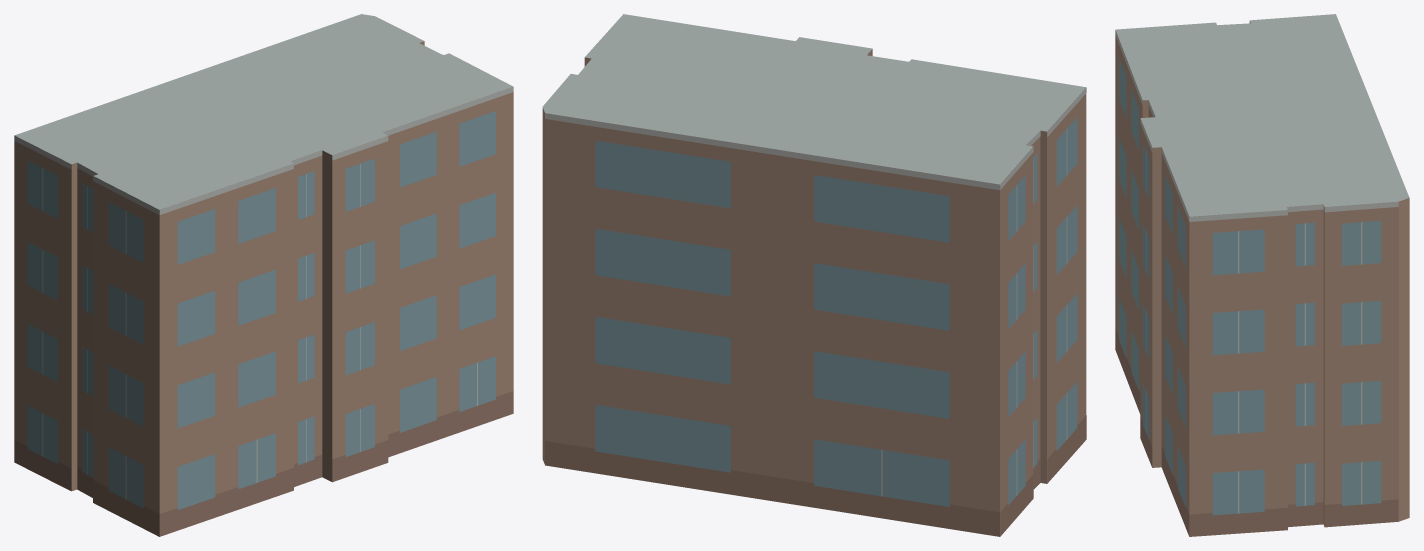
File: survey-upis-32976322.glb
The picture shows the model from 3 angles, left to right: view 1: azimuth 30°, elevation 25°; view 2: azimuth 150°, elevation 25°; view 3: azimuth 270°, elevation 25°; orthographic projection. The views are drawn at different scales.
Visible parts, largest first — view 1: survey-upis-32976322.tmp; view 2: survey-upis-32976322.tmp; view 3: survey-upis-32976322.tmp.
Part boxes in pixels (left/top/right/bottom): survey-upis-32976322.tmp: left=14, top=14, right=513, bottom=536; survey-upis-32976322.tmp: left=542, top=14, right=1086, bottom=536; survey-upis-32976322.tmp: left=1115, top=14, right=1409, bottom=536.
Bounding box in the file's own units: 20.25 × 14.9 × 12.42.
